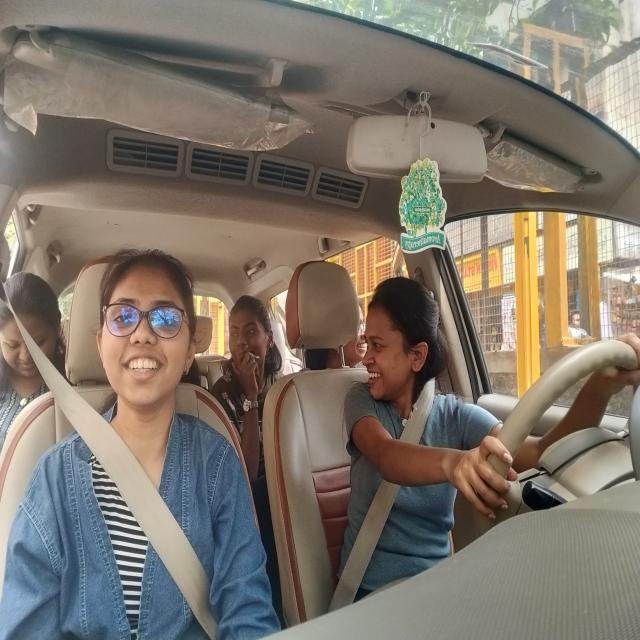LeftRight: (358, 273, 446, 430)
person: (100, 245, 191, 430), (4, 258, 68, 397), (228, 292, 280, 382), (351, 296, 366, 368)
talking: (363, 365, 386, 389)
